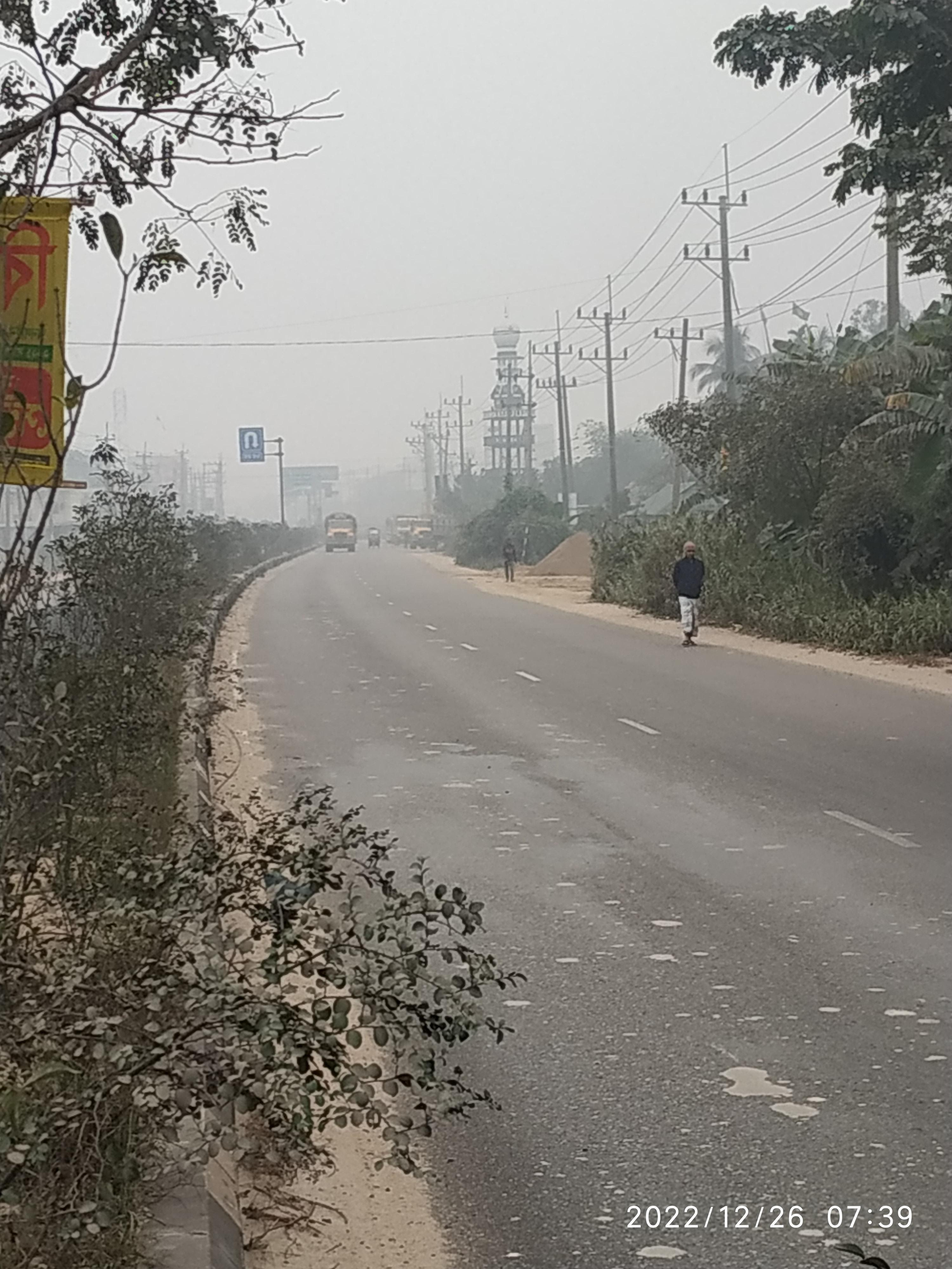Truck: (312, 500, 365, 558)
